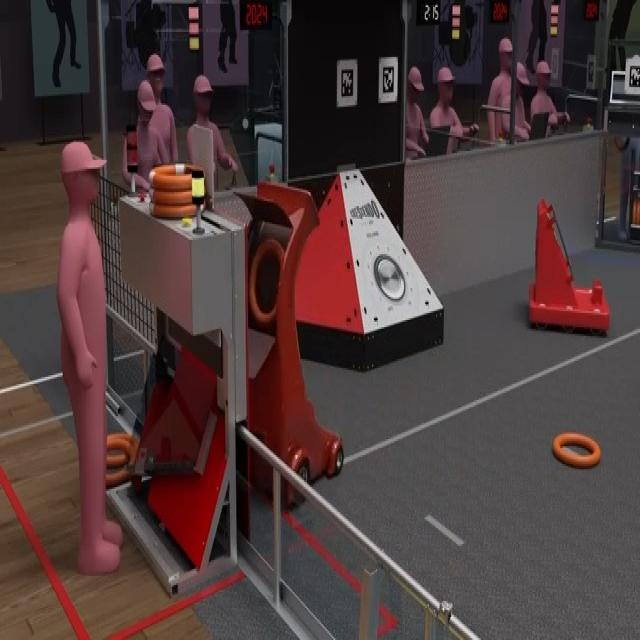notes: (551, 432, 601, 471)
